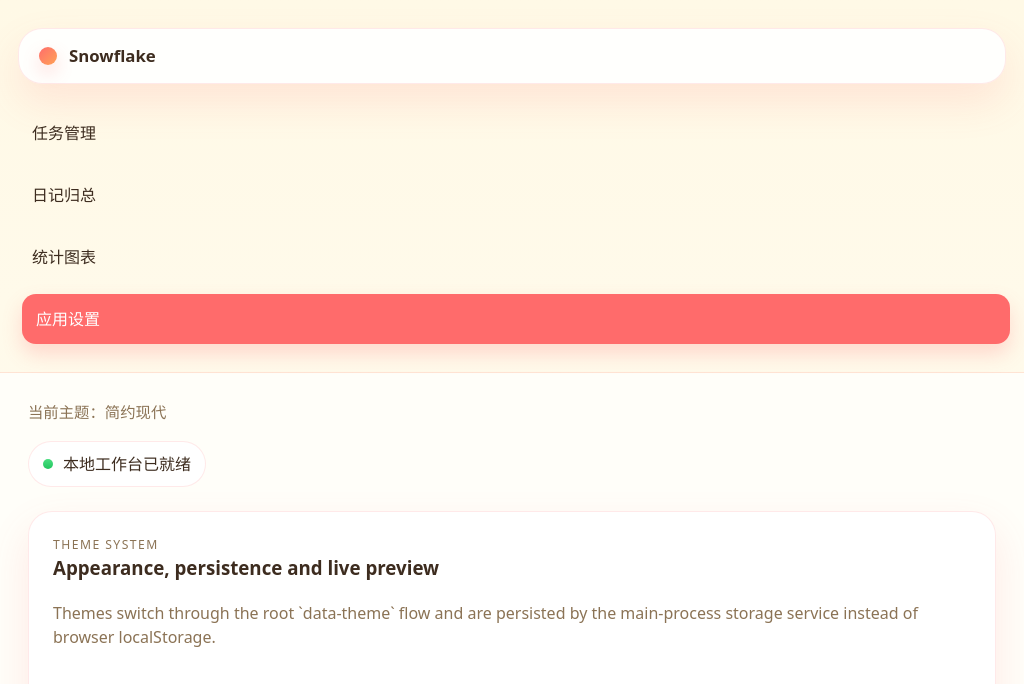
Test: App integration › navigates to analytics and requests the analytics snapshot
Expected: the heading "Appearance, persistence and live preview" is shown, [53,555,439,580]
Click the link "统计图表". click: click(64, 258)
box: [32,246,96,268]
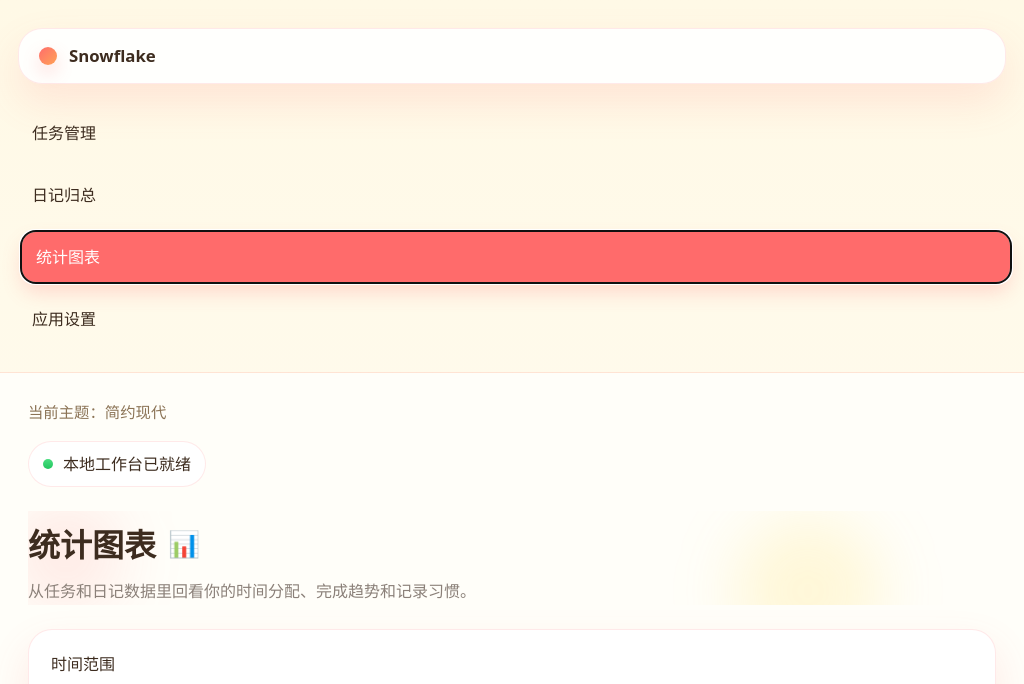
Result: the heading "统计图表 📊" is shown at [28,520,200,568]
